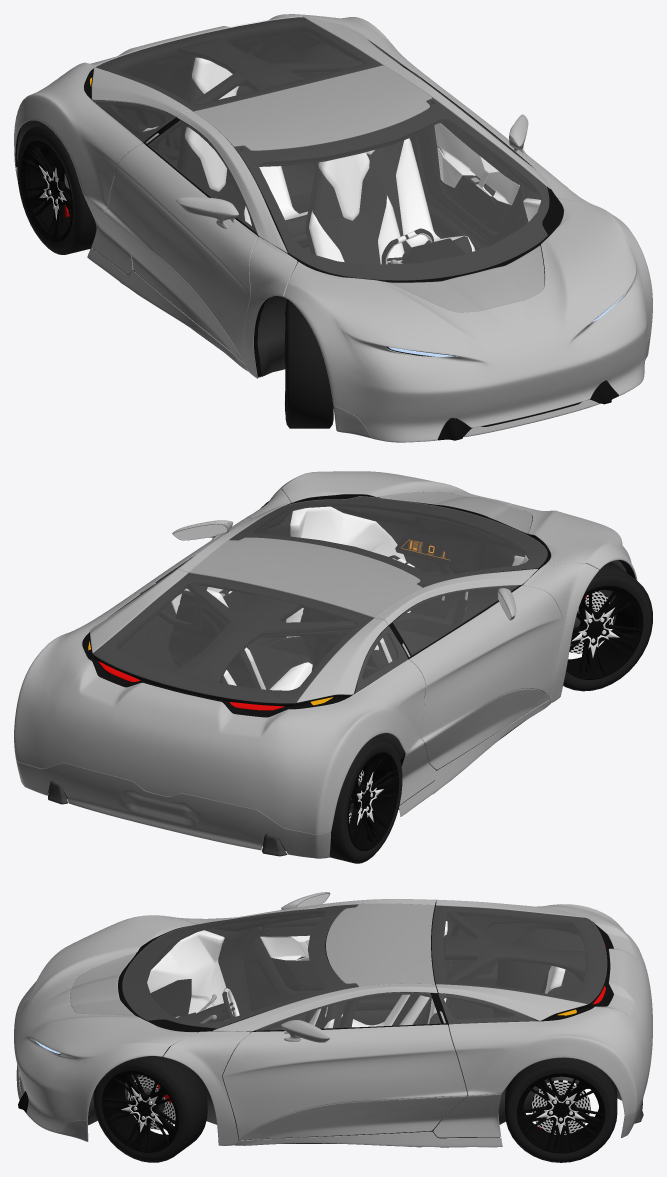
File: car.glb
3 renders of one model, top to bottom at view 1: azimuth 30°, elevation 25°; view 2: azimuth 150°, elevation 25°; view 3: azimuth 270°, elevation 25°, orthographic. The views are drawn at different scales.
Visible parts, largest first — view 1: BodyHood, BodyWindshield, BodyRearwindow, BodyDoorRColor1, BodyRearPanelsColor1, BodyWindshieldGasket, BodyRoofPanel, InteriorSeatsColor1, InteriorSeatsColor2, BodyPillars, InteriorPillar, InteriorRearHatch (+20 smaller); view 2: BodyRearPanelsColor1, BodyRearwindow, BodyWindshield, BodyPanelsColor2, BodyDoorRColor1, BodyRoofPanel, BodyHood, InteriorRearHatch, BodyPillars, InteriorPillar, BodyWindshieldGasket, InteriorDashMid (+20 smaller); view 3: BodyWindshield, BodyRearPanelsColor1, BodyDoorLColor1, BodyHood, BodyRearwindow, BodyRoofPanel, BodyPillars, BodyWindshieldGasket, BodyDoorLColor2, BodyPanelsColor2, WheelFrontL, InteriorRearHatch (+24 smaller).
Boxes of the visible parts, x1,y1,x2,y2 form: BodyHood: (283,198,652,442); BodyWindshield: (234,98,549,280); BodyRearwindow: (95,16,382,110); BodyDoorRColor1: (104,143,257,362); BodyRearPanelsColor1: (14,14,428,210); BodyWindshieldGasket: (234,99,563,282); BodyRoofPanel: (193,65,432,150); InteriorSeatsColor1: (185,57,475,264); InteriorSeatsColor2: (180,78,472,264); BodyPillars: (176,61,598,378); InteriorPillar: (158,37,434,168); InteriorRearHatch: (93,17,383,117); BodyRearPanelsColor1: (14,569,425,834); BodyRearwindow: (92,573,373,703); BodyWindshield: (229,496,547,587); BodyPanelsColor2: (16,700,550,858); BodyDoorRColor1: (409,585,562,742); BodyRoofPanel: (189,537,422,617); BodyHood: (279,471,637,580); InteriorRearHatch: (93,573,386,707); BodyPillars: (175,489,599,702); InteriorPillar: (174,574,417,682); BodyWindshieldGasket: (230,495,550,587); InteriorDashMid: (331,502,528,622); BodyWindshield: (122,904,357,1028); BodyRearPanelsColor1: (436,899,652,1115); BodyDoorLColor1: (222,1024,467,1139); BodyHood: (14,915,196,1133); BodyRearwindow: (432,905,606,1003); BodyRoofPanel: (326,903,434,986); BodyPillars: (163,899,437,1145); BodyWindshieldGasket: (118,905,357,1032); BodyDoorLColor2: (240,1096,467,1140); BodyPanelsColor2: (16,1050,652,1147); WheelFrontL: (93,1054,207,1162); InteriorRearHatch: (431,905,606,1020).
Bounding box in the file's own units: 2.54 × 1.15 × 4.36.
Materials: 22 (2 with a texture image).
